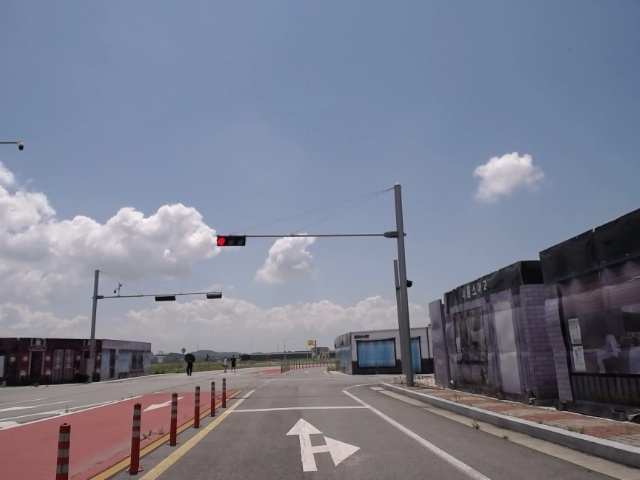red_3: (216, 235, 247, 248)
